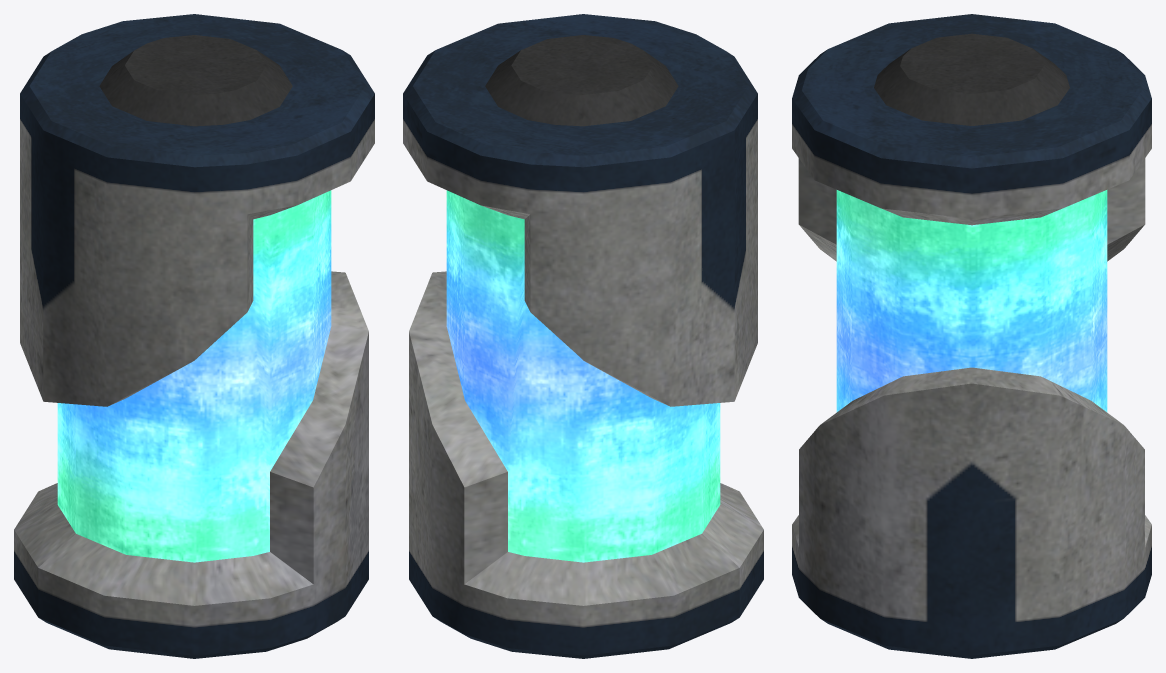
Rendered from containerAnim00.fbx.
The picture shows the model from 3 angles, left to right: view 1: azimuth 30°, elevation 25°; view 2: azimuth 150°, elevation 25°; view 3: azimuth 270°, elevation 25°; orthographic projection.
Visible parts, largest first — view 1: container; view 2: container; view 3: container.
Boxes of the visible parts, x1,y1,x2,y2 form: container: (14,14,374,658); container: (403,14,763,658); container: (792,14,1151,658).
Bounding box in the file's own units: 70.74 × 117 × 70.03.
